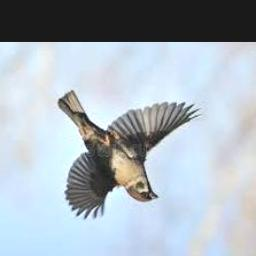Sparrow: (59, 90, 202, 221)
